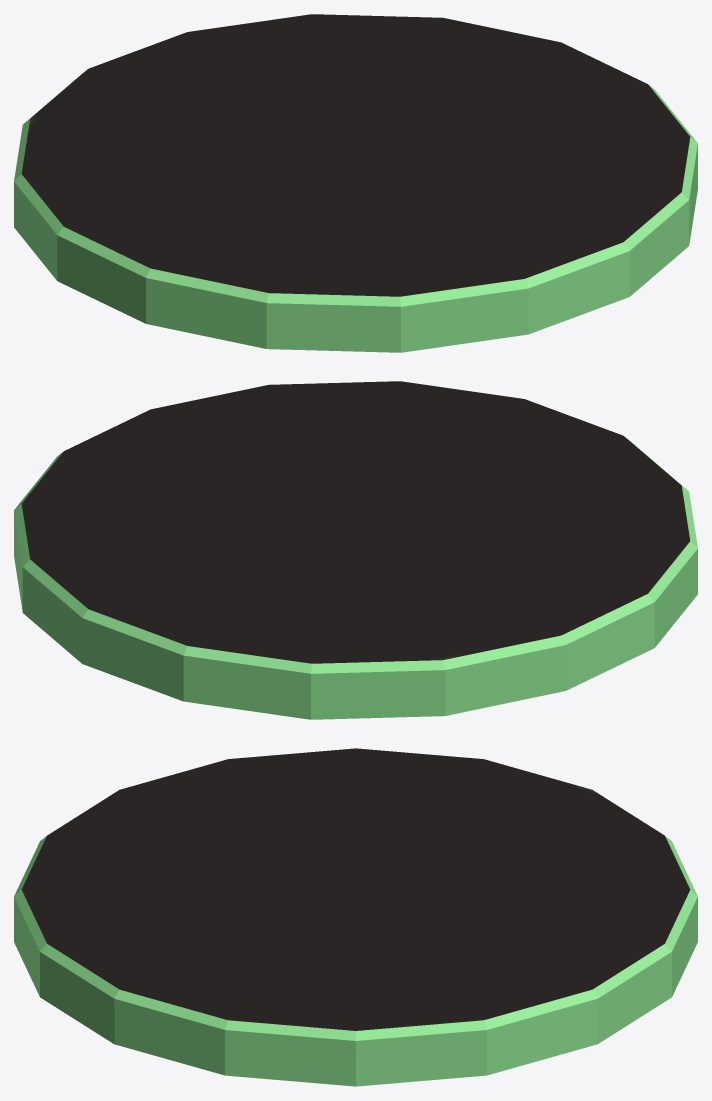
Rendered from HighGroundBase.fbx.
The picture shows the model from 3 angles, top to bottom: view 1: azimuth 30°, elevation 25°; view 2: azimuth 150°, elevation 25°; view 3: azimuth 270°, elevation 25°; orthographic projection.
Parts seen in each view (by area): view 1: HighGroundBase; view 2: HighGroundBase; view 3: HighGroundBase.
Boxes of the visible parts, box(x1,y1,x2,y2) form: HighGroundBase: box(14, 14, 697, 352); HighGroundBase: box(14, 381, 697, 719); HighGroundBase: box(14, 748, 697, 1086).
Bounding box in the file's own units: 800 × 67.57 × 800.
Materials: 1 (1 with a texture image).
